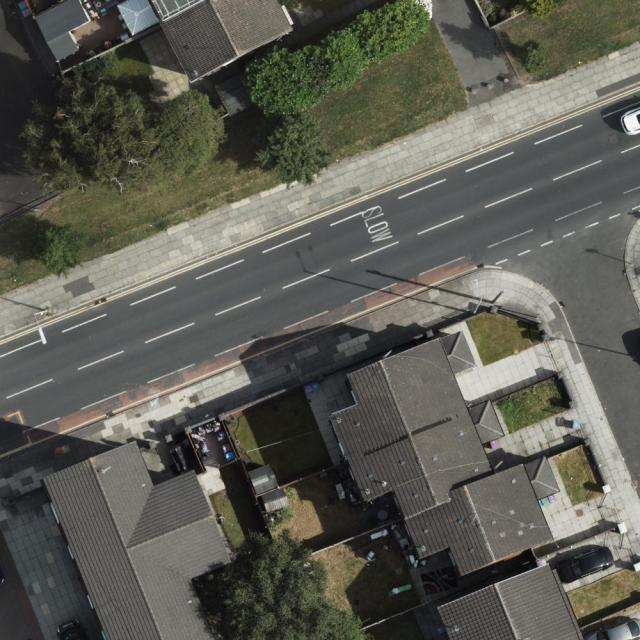roof: (330, 330, 561, 577), (40, 439, 232, 640), (116, 0, 293, 84), (435, 559, 585, 640)
